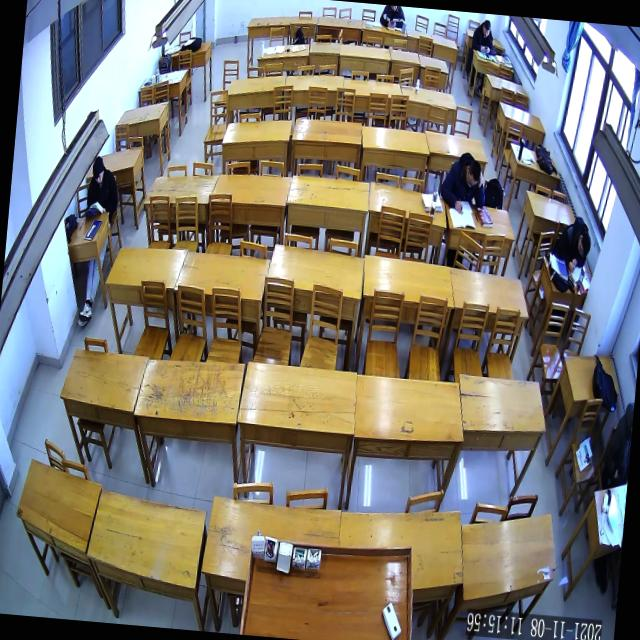down: (463, 158, 483, 192), (574, 229, 592, 260), (90, 154, 106, 186), (480, 19, 492, 39)
sit: (437, 146, 490, 218), (550, 212, 594, 276), (84, 154, 122, 220), (470, 18, 498, 56)
